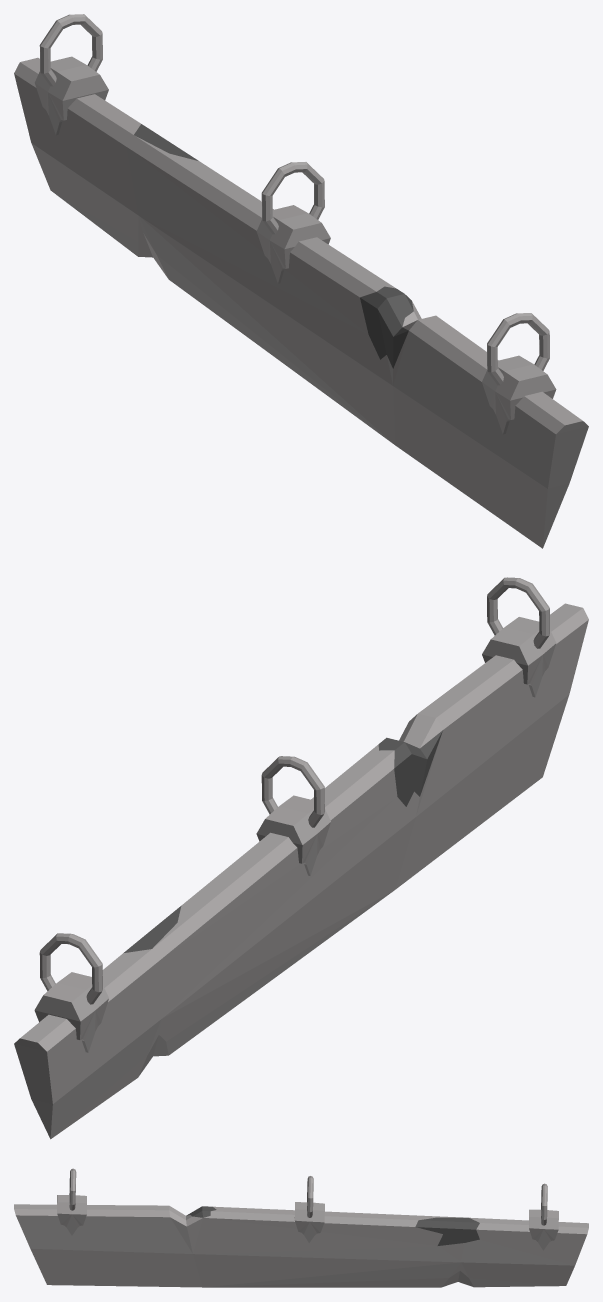
Rendered from MetalPendulumTrap_7.fbx.
3 renders of one model, top to bottom at view 1: azimuth 30°, elevation 25°; view 2: azimuth 150°, elevation 25°; view 3: azimuth 270°, elevation 25°, orthographic. The views are drawn at different scales.
Parts seen in each view (by area): view 1: SwingingBlade, Link_2, Link_3, Link_1; view 2: SwingingBlade, Link_2, Link_3, Link_1; view 3: SwingingBlade, Link_3, Link_1, Link_2.
Part boxes in pixels (x1,y1,x2,y2): SwingingBlade: [14, 56, 588, 548]; Link_2: [261, 162, 324, 234]; Link_3: [487, 313, 549, 385]; Link_1: [39, 14, 102, 86]; SwingingBlade: [14, 603, 588, 1139]; Link_2: [261, 756, 324, 827]; Link_3: [487, 577, 549, 648]; Link_1: [39, 933, 102, 1004]; SwingingBlade: [14, 1195, 588, 1287]; Link_3: [69, 1168, 76, 1210]; Link_1: [541, 1183, 547, 1225]; Link_2: [307, 1176, 313, 1217].
Size of the model in its own units: 21.13 by 72.68 by 324.
